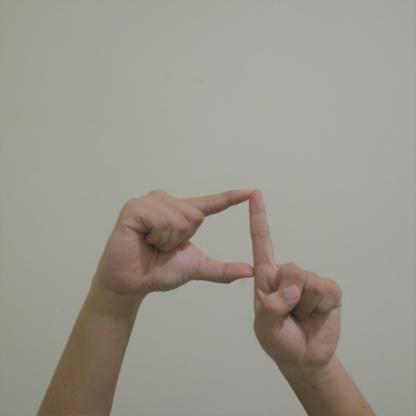D: (76, 162, 360, 393)
